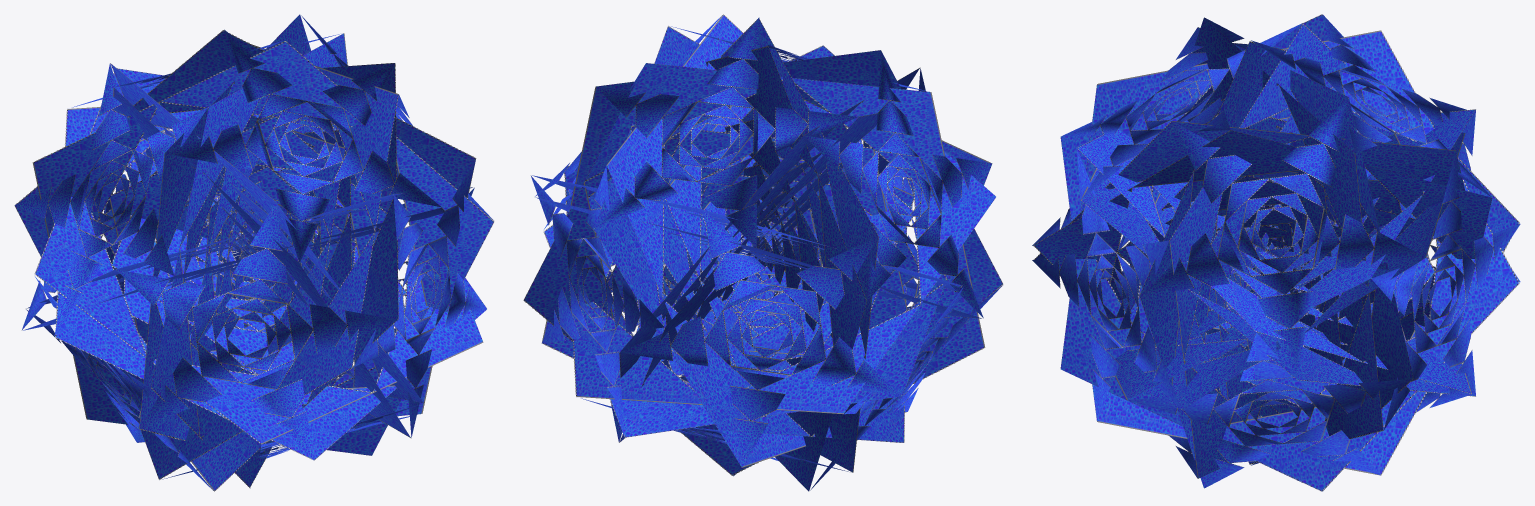
The model's file is InvertedSnubDodecadodecahedron14.gltf.
The picture shows the model from 3 angles, left to right: view 1: azimuth 30°, elevation 25°; view 2: azimuth 150°, elevation 25°; view 3: azimuth 270°, elevation 25°; orthographic projection.
Parts seen in each view (by area): view 1: InvertedSnubDodecadodecahedron14; view 2: InvertedSnubDodecadodecahedron14; view 3: InvertedSnubDodecadodecahedron14.
Part boxes in pixels (left/top/right/bottom): InvertedSnubDodecadodecahedron14: left=14, top=14, right=494, bottom=491; InvertedSnubDodecadodecahedron14: left=523, top=14, right=1003, bottom=491; InvertedSnubDodecadodecahedron14: left=1032, top=14, right=1520, bottom=491.
Bounding box in the file's own units: 1.69 × 1.69 × 1.69.
1 material, 1 textured.
